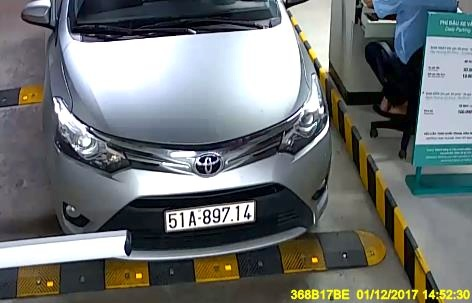plate: (161, 197, 257, 233)
